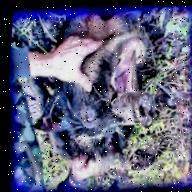boar: (14, 5, 168, 182)
